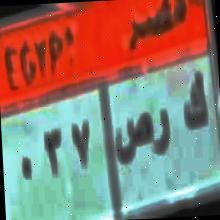0: (20, 146, 34, 191)
3: (41, 120, 64, 182)
7: (69, 114, 93, 178)
kaaf: (180, 72, 208, 141)
raa: (152, 99, 174, 158)
saad: (113, 105, 152, 163)
